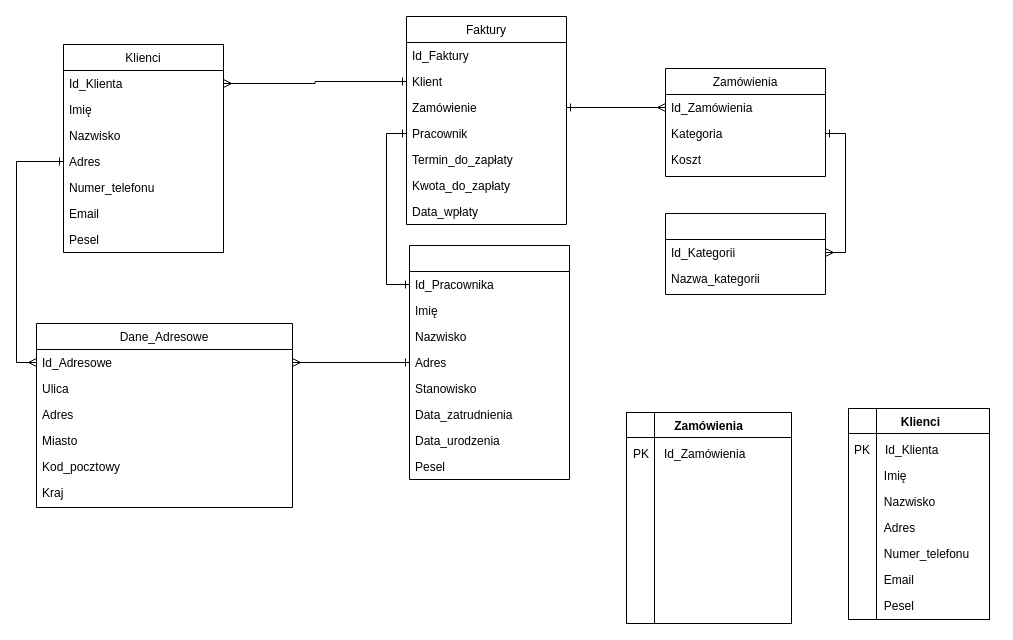
Image size: 1013x640. Some labels were removed from this diagram. Each missing label, with the box of its shape:
Kategorie: (664, 212, 826, 294)
Pracownicy: (408, 244, 570, 480)
